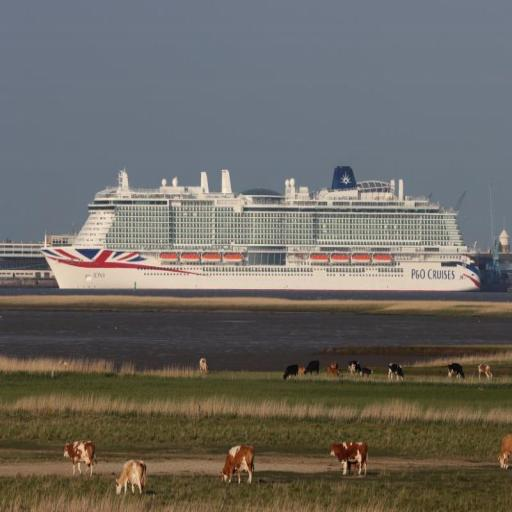cruises: (40, 142, 489, 306)
